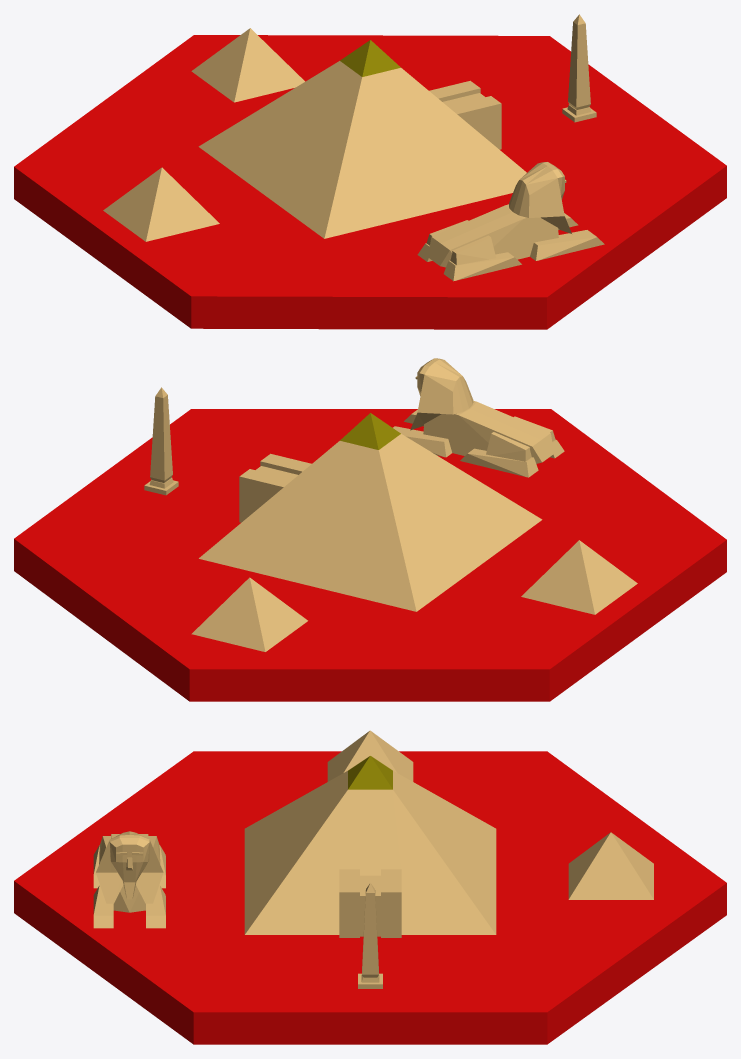
Rendered from Miniture_Table_Top_Egypt_Temple_-_low_detail.glb.
The picture shows the model from 3 angles, top to bottom: view 1: azimuth 30°, elevation 25°; view 2: azimuth 150°, elevation 25°; view 3: azimuth 270°, elevation 25°; orthographic projection.
Visible parts, largest first — view 1: unnamed (×7); view 2: unnamed (×7); view 3: unnamed (×7).
Part boxes in pixels (<box>): unnamed (×7): <box>14,14,726,329</box>; unnamed (×7): <box>14,358,726,701</box>; unnamed (×7): <box>14,730,726,1044</box>.
Bounding box in the file's own units: 4.33 × 1.23 × 5.
